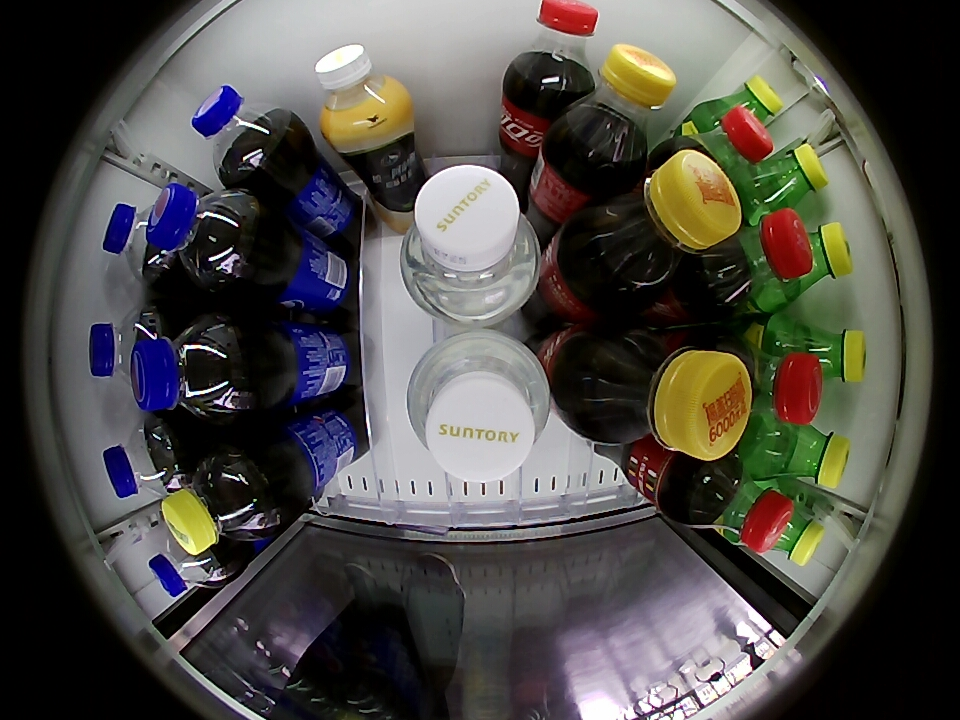asamu: (315, 44, 409, 139)
baishikele: (162, 449, 271, 554)
baishikele-2: (131, 313, 244, 422), (146, 182, 258, 290), (191, 85, 293, 184), (103, 420, 185, 500), (102, 203, 173, 284), (89, 305, 162, 383), (149, 534, 229, 597)
kele-b: (701, 208, 812, 313), (687, 456, 791, 552), (511, 0, 600, 98), (677, 105, 775, 186), (746, 339, 823, 425)
kele-b-2: (578, 148, 743, 299), (574, 327, 752, 461), (555, 43, 677, 177)
qinningshui: (400, 164, 543, 325), (407, 330, 551, 482)
xuebi-b: (763, 419, 851, 489), (783, 221, 853, 304), (751, 142, 828, 213), (783, 322, 866, 384), (765, 495, 825, 567), (723, 77, 783, 127)
